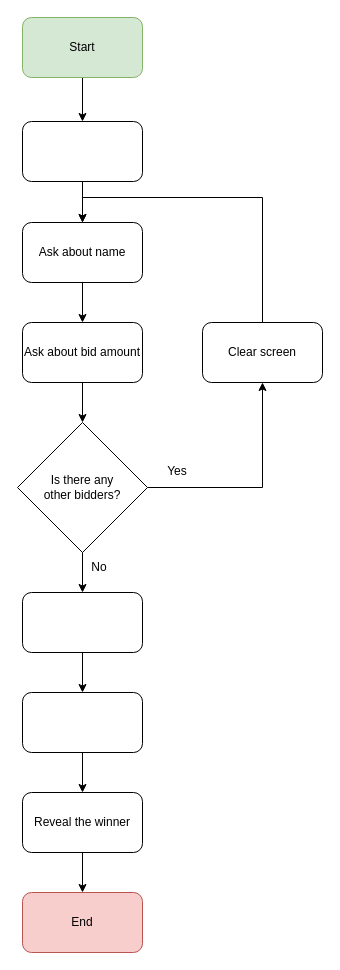
Some shapes in this 340 by 970 pixel diagram are drawn without their labels. Here are the shapes that lost their labels. From the top down, the centre of each, then its label:
(82,151): Print logo from art.py
(82,622): Check for the highest bid amount
(82,722): Get his name
